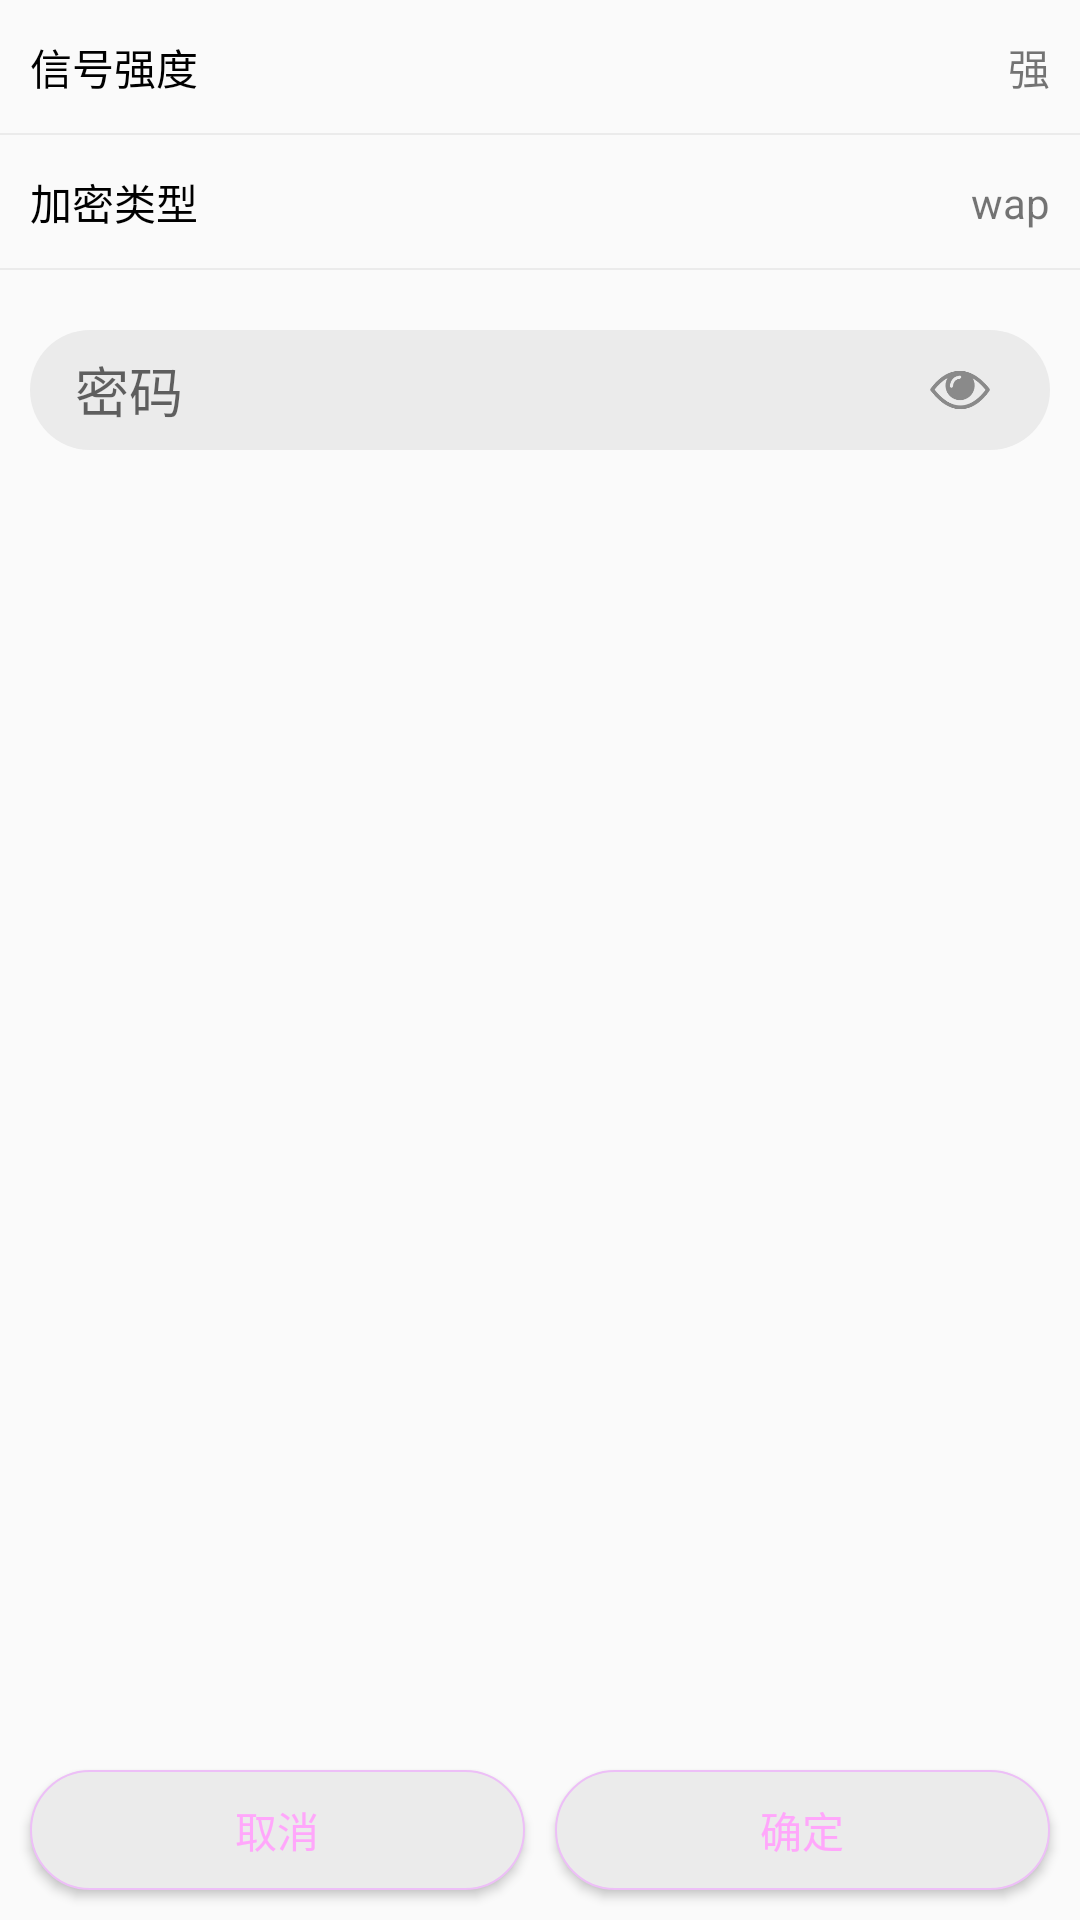

Point at icon controls on the screen. Image size 1080w x 1920h, points as (x,y).
eyes open: (960,390)
